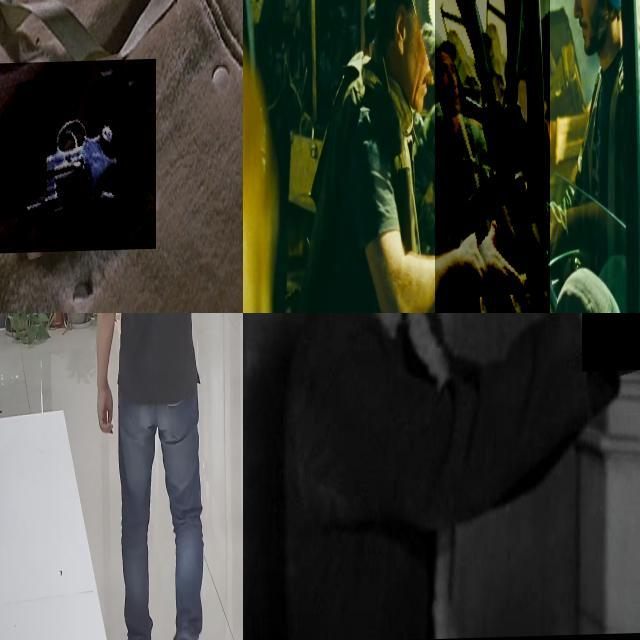gun-knife-thesis - v11 Yolov5 augmented: (435, 0, 549, 313), (0, 60, 156, 254), (582, 313, 640, 412), (190, 313, 233, 358)
